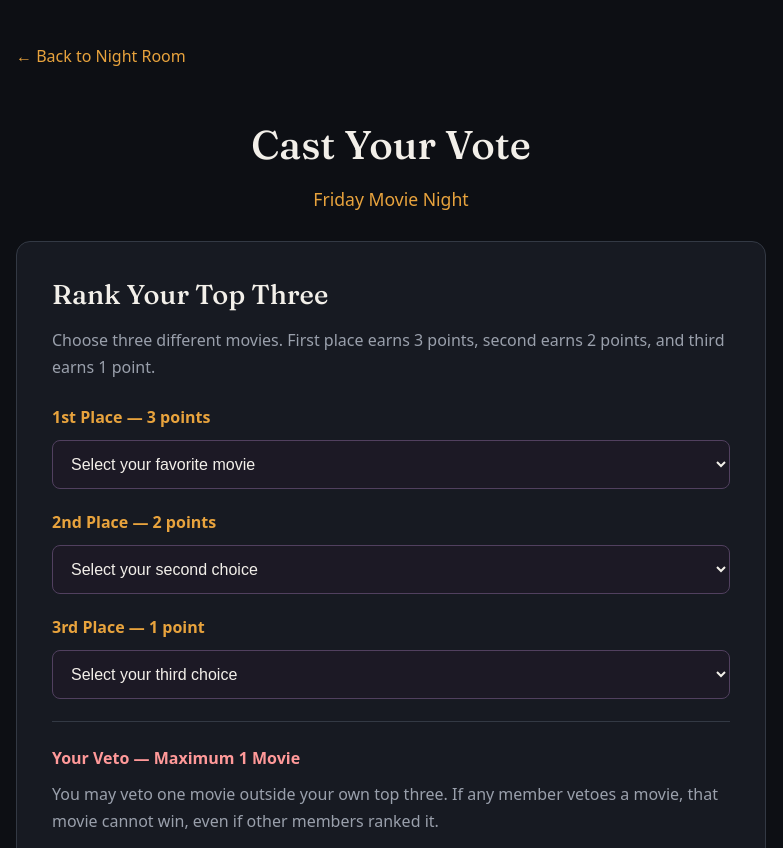
Test: rejects repeated ranked choices
The width and height of the screenshot is (783, 848).
Expected: the heading "Cast Your Vote" is shown, 251,120 -> 531,169
Select "Film 1" in the dropdown labelled "1st Place — 3 points" at x=391, y=465, box 52,440 -> 730,489
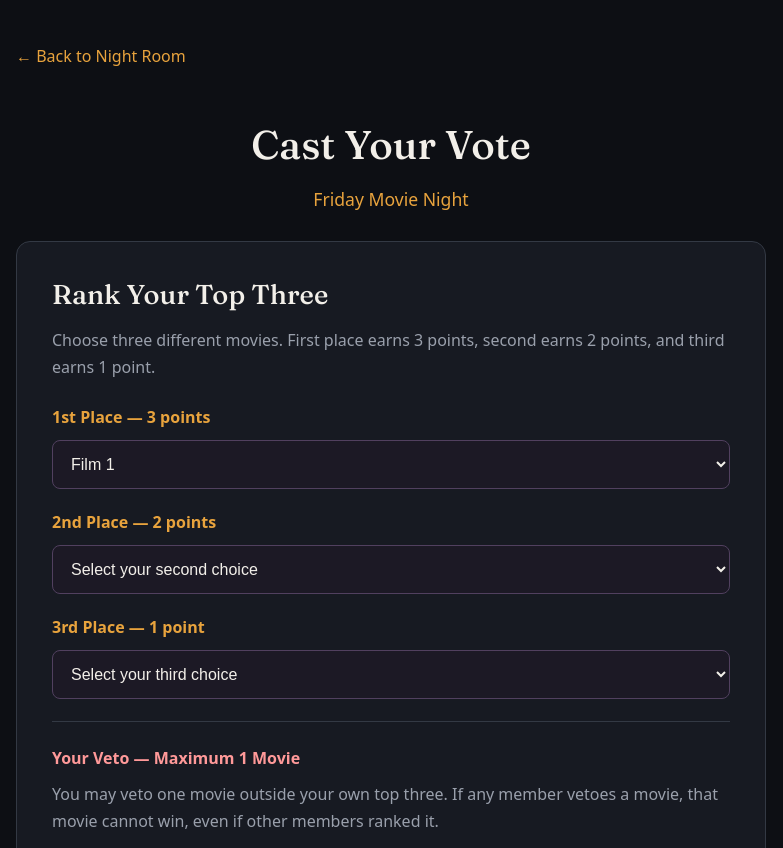
Select "Film 1" in the dropdown labelled "2nd Place — 2 points" at x=391, y=570, box 52,545 -> 730,594
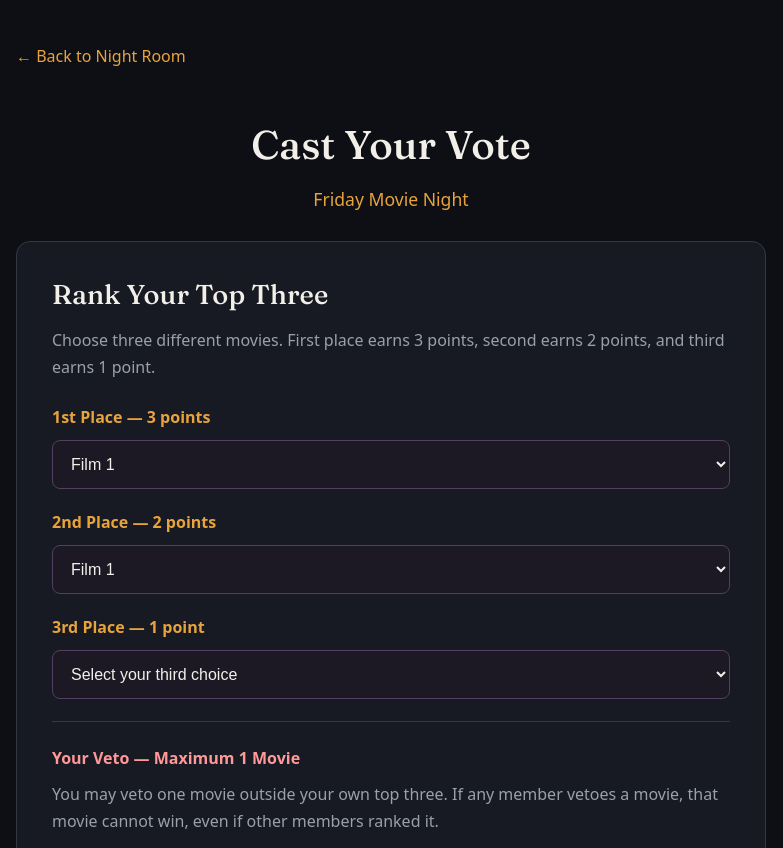
Select "Film 3" in the dropdown labelled "3rd Place — 1 point" at x=391, y=675, box 52,650 -> 730,699
(page scrolled)
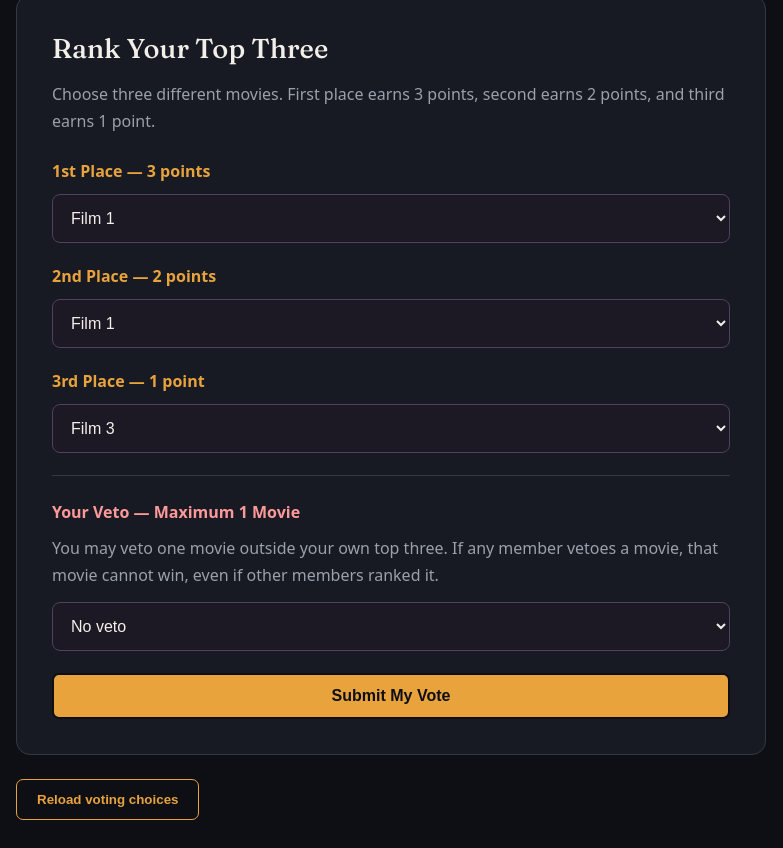
Click the button "Submit My Vote".
click(391, 696)  # box 52,672 -> 730,718
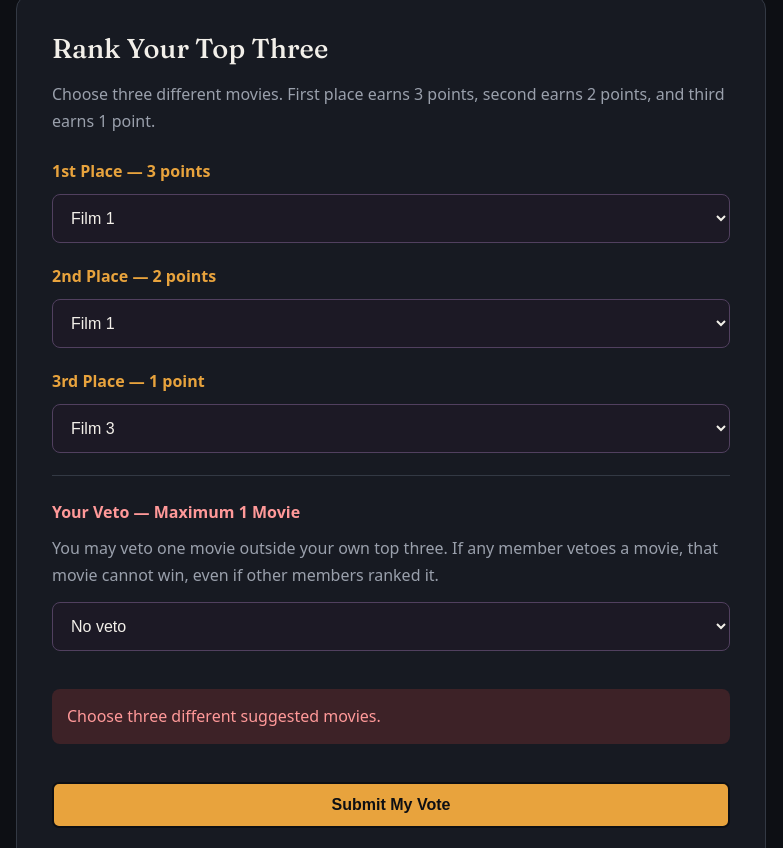
Result: the message reads "Choose three different suggested movies." at 67,704 -> 381,726
